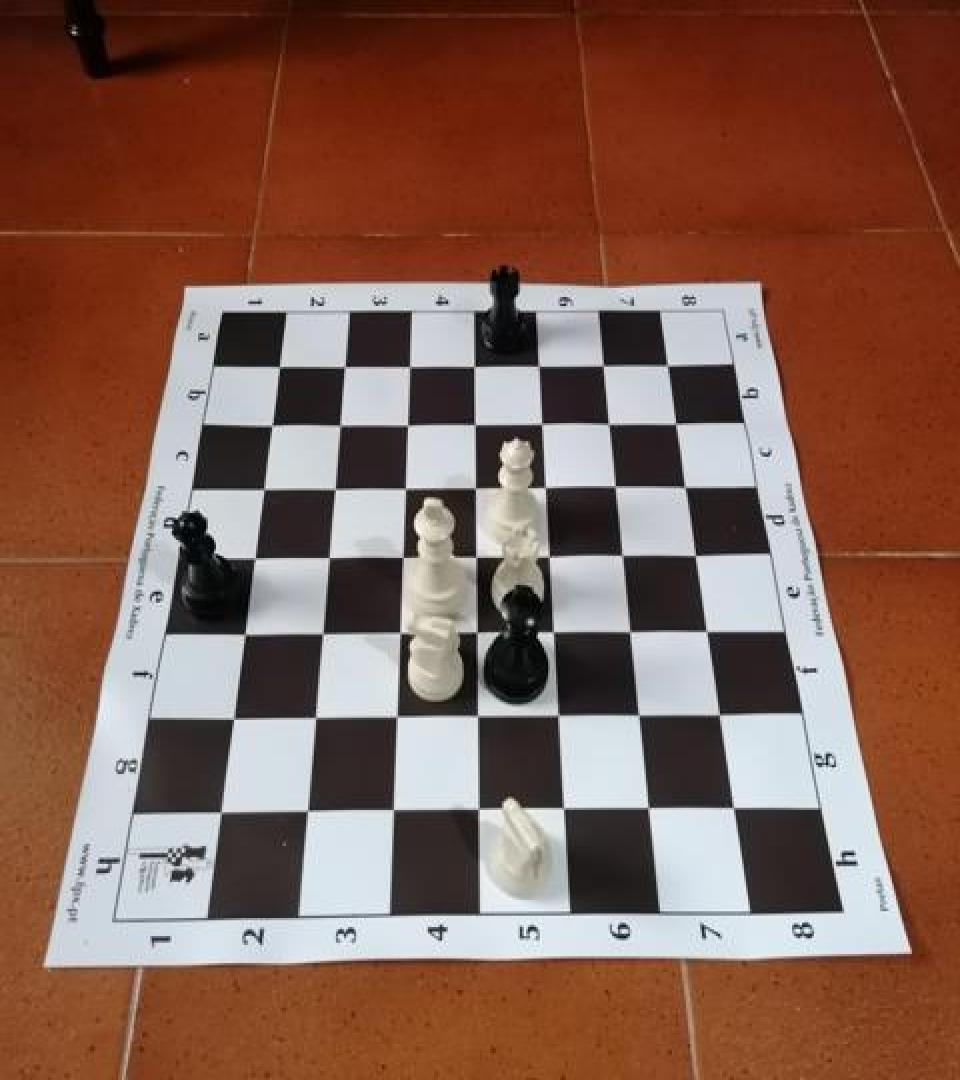xcorner: (657, 348, 687, 382), (592, 348, 622, 382), (526, 348, 556, 382), (461, 348, 491, 382), (395, 348, 425, 382), (329, 348, 359, 382), (263, 348, 293, 382), (666, 407, 696, 441), (598, 407, 628, 441), (530, 407, 560, 441), (462, 407, 492, 441), (393, 408, 423, 442), (324, 408, 354, 442), (255, 408, 285, 442), (676, 471, 706, 505), (605, 471, 635, 505), (534, 471, 564, 505), (463, 472, 493, 506), (391, 472, 421, 506), (319, 472, 349, 506), (247, 472, 277, 506), (686, 541, 716, 575), (612, 541, 642, 575), (538, 542, 568, 576), (464, 542, 494, 576), (389, 542, 419, 576), (314, 543, 344, 577), (239, 543, 269, 577), (698, 618, 728, 652), (621, 618, 651, 652), (543, 618, 573, 652), (465, 618, 495, 652), (387, 620, 417, 654), (308, 620, 338, 654), (229, 621, 259, 655), (711, 701, 741, 735), (630, 702, 660, 736), (548, 703, 578, 737), (466, 703, 496, 737), (384, 704, 414, 738), (301, 705, 331, 739), (219, 706, 249, 740), (725, 793, 755, 827), (639, 794, 669, 828), (554, 795, 584, 829), (468, 796, 498, 830), (381, 798, 411, 832), (294, 798, 324, 832), (207, 800, 237, 834)
